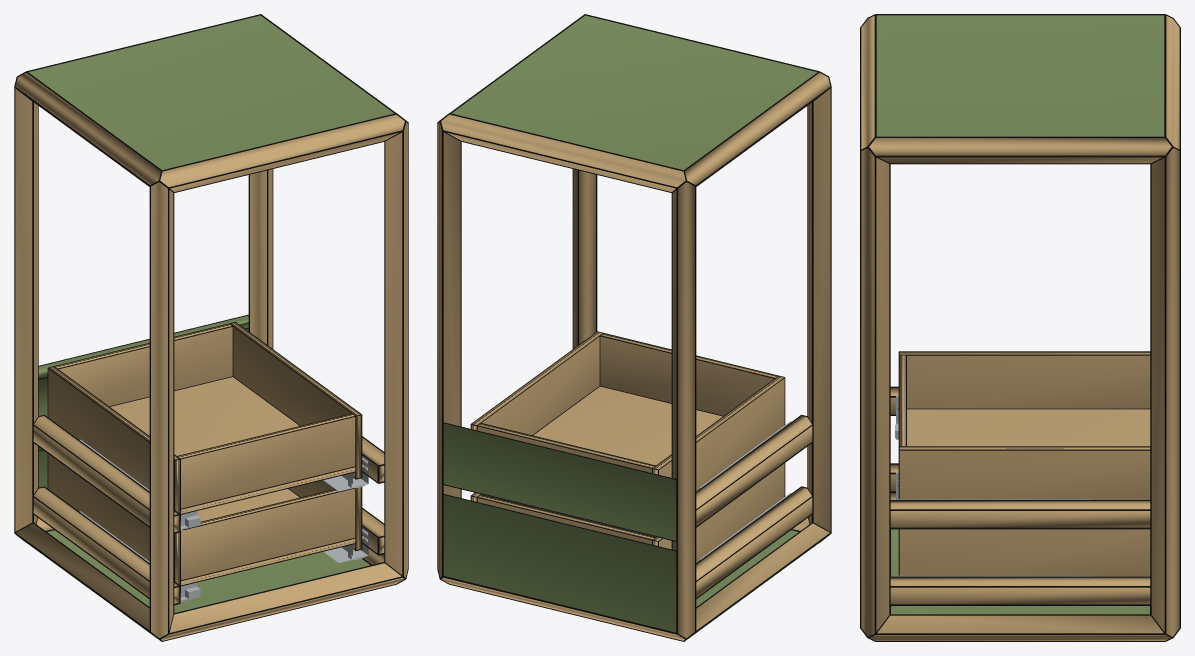
Rendered from 014-servante.glb.
3 renders of one model, left to right at view 1: azimuth 30°, elevation 25°; view 2: azimuth 150°, elevation 25°; view 3: azimuth 270°, elevation 25°, orthographic. The views are drawn at different scales.
Parts seen in each view (by area): view 1: panneau-dessus_exterieur, arete-Z0, arete-Z1, drawer-box-avant-mod-1, arete-Z2, drawer-box-avant-mod-0, drawer-box-dessous-mod-1, drawer-box-arriere-mod-1, drawer-box-joue_d-mod-1, drawer-box-joue_g-mod-1, arete-X2, arete-X0 (+31 smaller); view 2: panneau-dessus_exterieur, drawer-box-facade-mod-0, drawer-box-facade-mod-1, arete-Z0, arete-Z2, drawer-box-dessous-mod-1, arete-Z3, drawer-box-avant-mod-1, arete-X3, drawer-box-joue_d-mod-1, drawer-box-joue_g-mod-1, drawer-tr-drawer-traverse-left-mod-0 (+24 smaller); view 3: panneau-dessus_exterieur, drawer-box-joue_g-mod-1, arete-Z1, arete-Z3, drawer-box-joue_d-mod-1, drawer-box-joue_d-mod-0, drawer-box-dessous-mod-1, arete-Y3, drawer-tr-drawer-traverse-right-mod-0, arete-Y1, drawer-tr-drawer-traverse-right-mod-1, arete-wire-Z1 (+15 smaller).
Boxes of the visible parts, x1=… form: panneau-dessus_exterieur: x1=28, y1=15, x2=394, y2=170; arete-Z0: x1=151, y1=182, x2=173, y2=638; arete-Z1: x1=385, y1=122, x2=407, y2=577; drawer-box-avant-mod-1: x1=178, y1=414, x2=355, y2=508; arete-Z2: x1=15, y1=88, x2=37, y2=531; drawer-box-avant-mod-0: x1=181, y1=488, x2=355, y2=580; drawer-box-dessous-mod-1: x1=110, y1=377, x2=355, y2=513; drawer-box-arriere-mod-1: x1=55, y1=324, x2=232, y2=406; drawer-box-joue_d-mod-1: x1=230, y1=322, x2=361, y2=478; drawer-box-joue_g-mod-1: x1=48, y1=367, x2=179, y2=513; arete-X2: x1=160, y1=114, x2=404, y2=191; arete-X0: x1=161, y1=563, x2=404, y2=640; panneau-dessus_exterieur: x1=451, y1=15, x2=817, y2=170; drawer-box-facade-mod-0: x1=443, y1=495, x2=676, y2=632; drawer-box-facade-mod-1: x1=443, y1=423, x2=676, y2=540; arete-Z0: x1=808, y1=88, x2=830, y2=531; arete-Z2: x1=672, y1=182, x2=694, y2=638; drawer-box-dessous-mod-1: x1=533, y1=386, x2=722, y2=465; arete-Z3: x1=438, y1=122, x2=460, y2=577; drawer-box-avant-mod-1: x1=600, y1=333, x2=777, y2=415; arete-X3: x1=441, y1=114, x2=685, y2=191; drawer-box-joue_d-mod-1: x1=471, y1=332, x2=601, y2=434; drawer-box-joue_g-mod-1: x1=653, y1=376, x2=784, y2=491; drawer-tr-drawer-traverse-left-mod-0: x1=696, y1=487, x2=812, y2=597; panneau-dessus_exterieur: x1=876, y1=15, x2=1164, y2=136; drawer-box-joue_g-mod-1: x1=899, y1=352, x2=1150, y2=408; arete-Z1: x1=861, y1=148, x2=889, y2=636; arete-Z3: x1=1151, y1=148, x2=1179, y2=636; drawer-box-joue_d-mod-1: x1=899, y1=447, x2=1150, y2=499; drawer-box-joue_d-mod-0: x1=899, y1=529, x2=1150, y2=576; drawer-box-dessous-mod-1: x1=907, y1=409, x2=1150, y2=446; arete-Y3: x1=869, y1=138, x2=1171, y2=163; drawer-tr-drawer-traverse-right-mod-0: x1=890, y1=577, x2=1150, y2=604; arete-Y1: x1=869, y1=615, x2=1171, y2=640; drawer-tr-drawer-traverse-right-mod-1: x1=890, y1=501, x2=1150, y2=527; arete-wire-Z1: x1=860, y1=146, x2=890, y2=634.
Bounding box in the file's own units: 0.4738 × 0.8238 × 0.4738.
